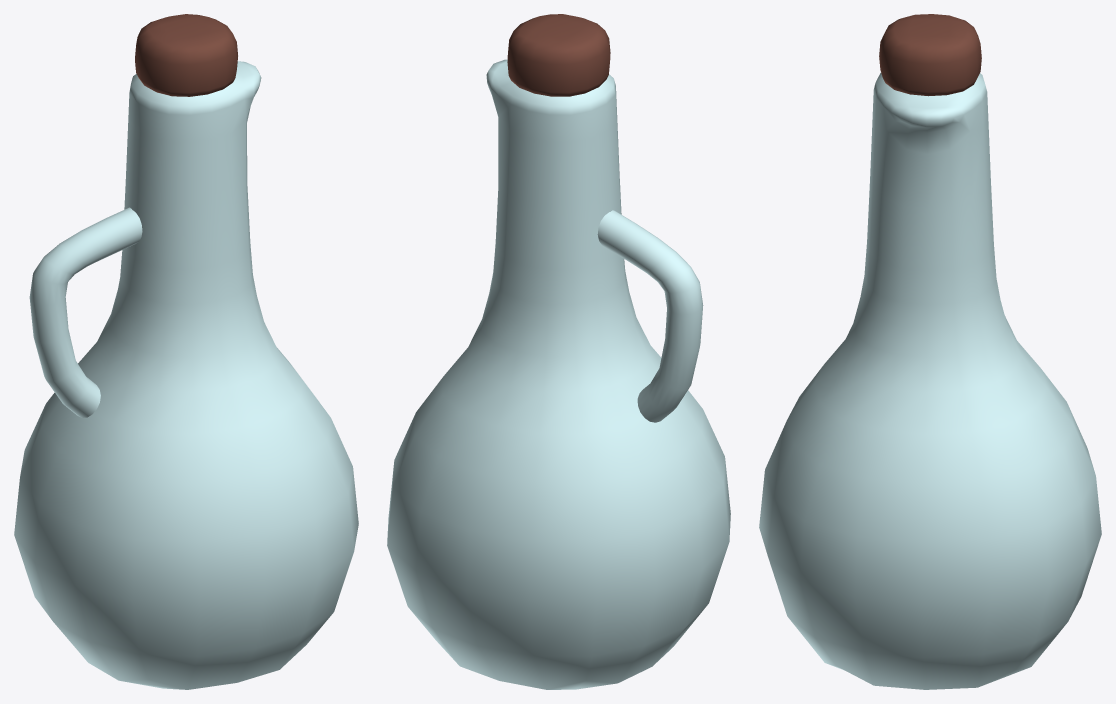
File: Store_1_Olive_Oil.glb
3 renders of one model, left to right at view 1: azimuth 30°, elevation 25°; view 2: azimuth 150°, elevation 25°; view 3: azimuth 270°, elevation 25°, orthographic.
Visible parts, largest first — view 1: Store_1_Olive_Oil; view 2: Store_1_Olive_Oil; view 3: Store_1_Olive_Oil.
Boxes of the visible parts, x1,y1,x2,y2 form: Store_1_Olive_Oil: (14,14,358,689); Store_1_Olive_Oil: (387,14,730,689); Store_1_Olive_Oil: (759,14,1101,689).
Size of the model in its own units: 0.2475 by 0.5029 by 0.2474.
1 material, 1 textured.
